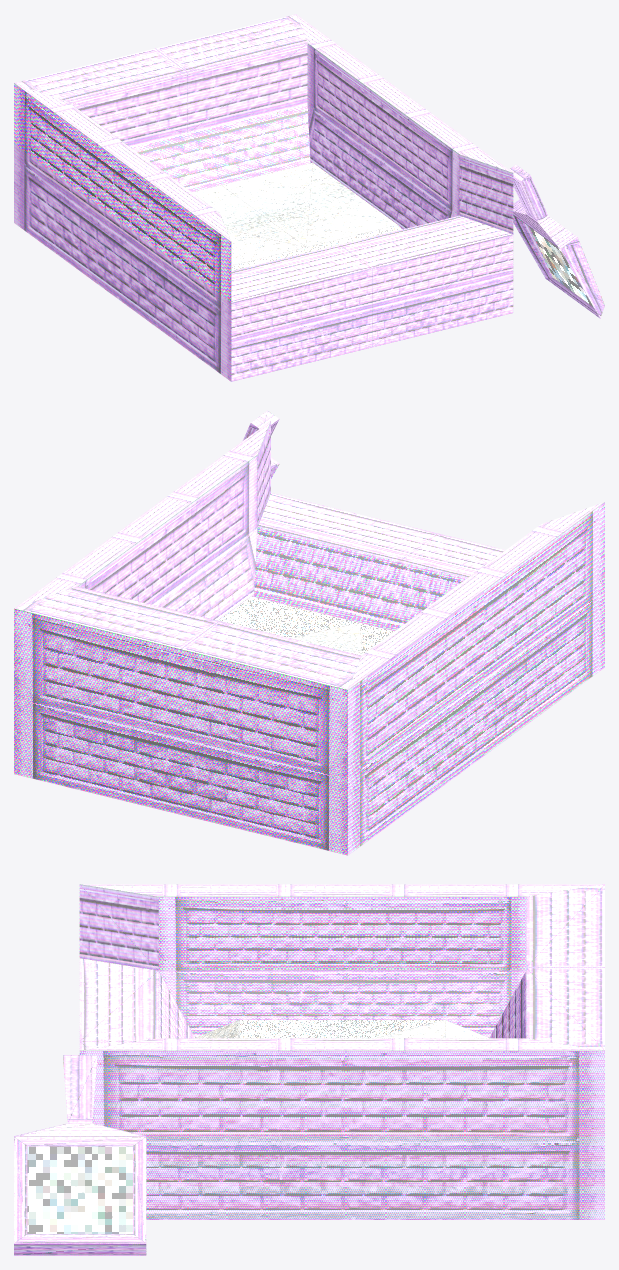
The model's file is litter_box.glb.
3 views of the same model, one above another, from view 1: azimuth 30°, elevation 25°; view 2: azimuth 150°, elevation 25°; view 3: azimuth 270°, elevation 25° (orthographic). The views are drawn at different scales.
Parts seen in each view (by area): view 1: litter_box; view 2: litter_box; view 3: litter_box.
Boxes of the visible parts, <box> form: litter_box: <box>14,14,604,381</box>; litter_box: <box>14,410,604,855</box>; litter_box: <box>14,884,604,1255</box>.
Bounding box in the file's own units: 3.68 × 1.44 × 4.5.
